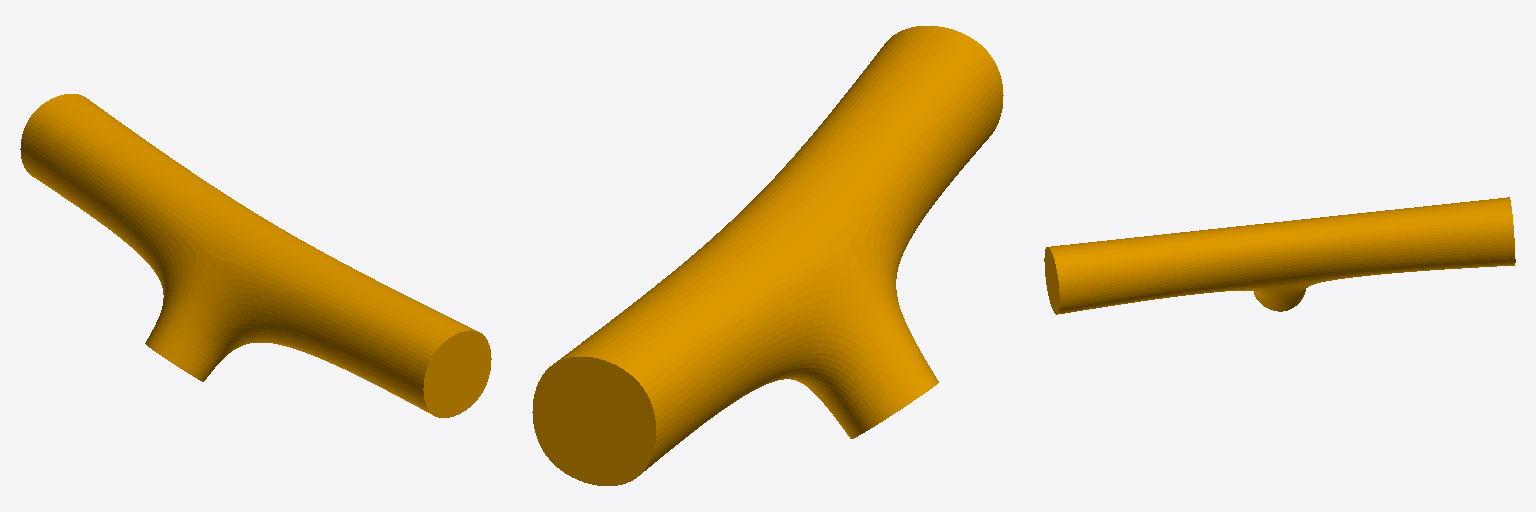
URDF robot description (object):
<robot name="object">
  <link name="object">
    <visual>
      <origin xyz="0 0 0"/>
      <geometry>
        <mesh filename="visual.obj" scale="1 1 1"/>
      </geometry>
    </visual>
    <collision>
      <origin xyz="0 0 0"/>
      <geometry>
        <mesh filename="visual.obj" scale="1 1 1"/>
      </geometry>
    </collision>
    <inertial>
      <mass value="0.05"/>
      <inertia ixx="0.0002936799593077826" iyy="2.312473873625682e-05" izz="0.00030006548405753735" ixy="4.263901372296221e-05" ixz="-1.2830791618738313e-06" iyz="-1.3471603461630002e-05"/>
    </inertial>
  </link>
</robot>

--- Facts derived from the render (not from the file) ---
3 views of the same robot in one strip: view 1: azimuth 30°, elevation 25°; view 2: azimuth 150°, elevation 25°; view 3: azimuth 270°, elevation 25° (orthographic).
Robot: object — 1 links, 0 joints (none); root link object; default pose: every joint at zero.
Visible links, largest first — view 1: object; view 2: object; view 3: object.
Link boxes in pixels (x1,y1,x2,y2): object: (20, 94, 491, 417); object: (532, 26, 1003, 485); object: (1044, 197, 1515, 314).
Size in the robot's own frame: 0.0961 by 0.2823 by 0.0779 metres.
Meshes: 1 distinct files referenced, 1 mesh visuals loaded (1 OBJ).
